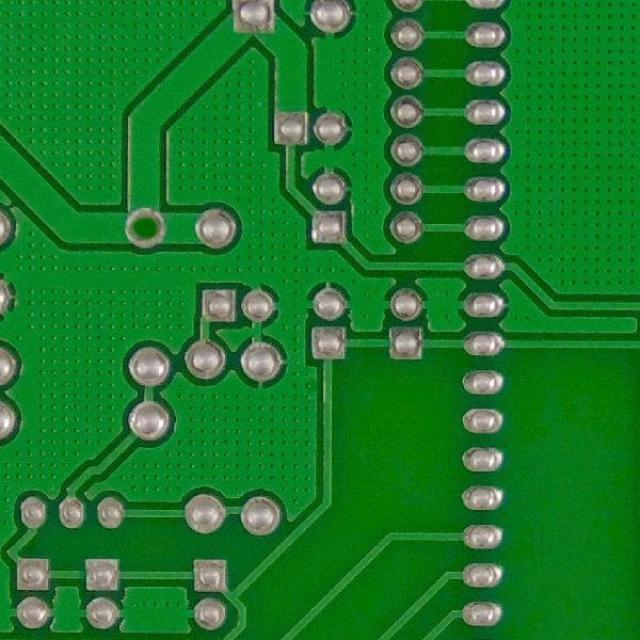Missing_Hole: (122, 207, 168, 250)
